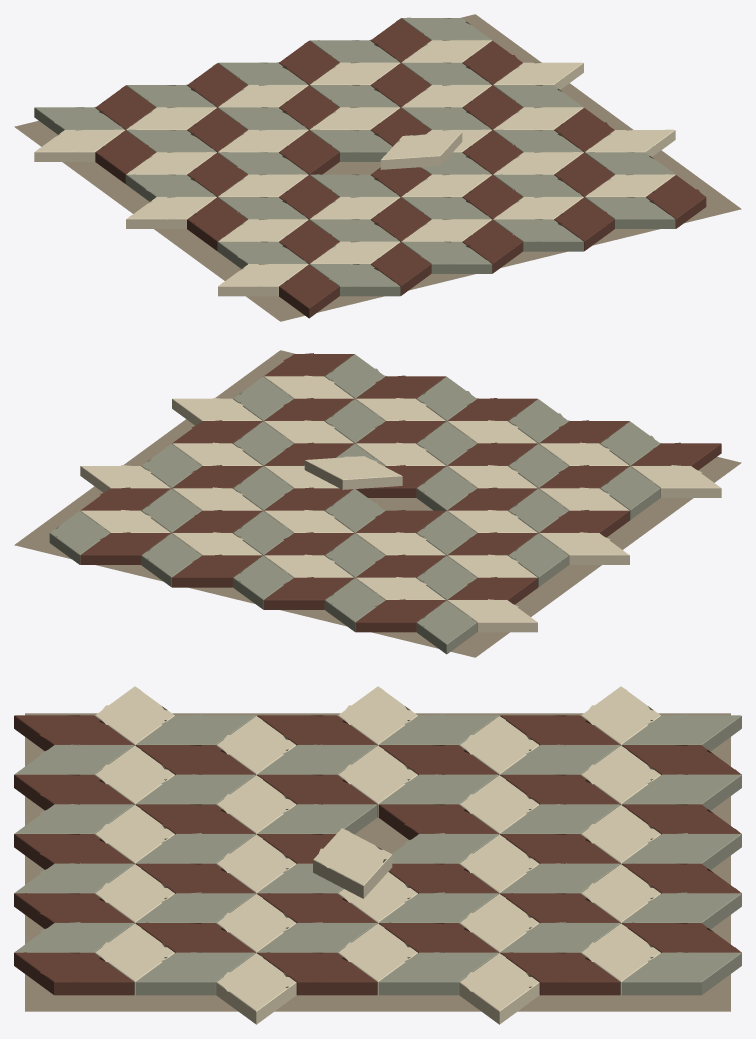
Rendered from terilgan.glb.
The picture shows the model from 3 angles, top to bottom: view 1: azimuth 30°, elevation 25°; view 2: azimuth 150°, elevation 25°; view 3: azimuth 270°, elevation 25°; orthographic projection. The views are drawn at different scales.
Visible parts, largest first — view 1: qum, t.042, t.068, t.071, t.065, t.074, t.009, t.066, t.077, t.037, t.030, t.078 (+68 smaller); view 2: qum, t.042, t.001, t.003, t.009, t.005, t.007, t.065, t, t.037, t.002, t.008 (+67 smaller); view 3: qum, t.008, t.078, t.036, t.050, t.022, t.064, t.035, t.063, t.042, t.002, t.069 (+68 smaller).
Part boxes in pixels (x1,y1,x2,y2): qum: (14,14,741,321); t.042: (380,132,462,169); t.068: (309,264,400,296); t.071: (401,241,492,273); t.065: (218,264,308,296); t.074: (493,219,583,251); t.009: (34,129,125,161); t.066: (279,264,339,318); t.077: (585,197,675,228); t.037: (126,197,216,228); t.030: (309,129,392,161); t.078: (646,175,706,228); qum: (14,350,741,657); t.042: (304,456,402,489); t.001: (355,599,446,632); t.003: (263,577,354,609); t.009: (447,599,537,632); t.005: (172,554,262,587); t.007: (80,532,170,564); t.065: (630,465,721,497); t: (416,600,476,654); t.037: (539,532,629,564); t.002: (324,578,385,631); t.008: (49,511,109,564); qum: (25,713,730,1011); t.008: (621,952,741,995); t.078: (14,952,134,995); t.036: (378,952,498,995); t.050: (257,952,377,995); t.022: (500,952,620,995); t.064: (135,952,255,995); t.035: (459,953,539,1024); t.063: (216,953,296,1024); t.042: (313,828,392,898); t.002: (622,774,741,810); t.069: (14,774,133,810).
Bounding box in the file's own units: 1.81 × 0.072 × 1.71.
